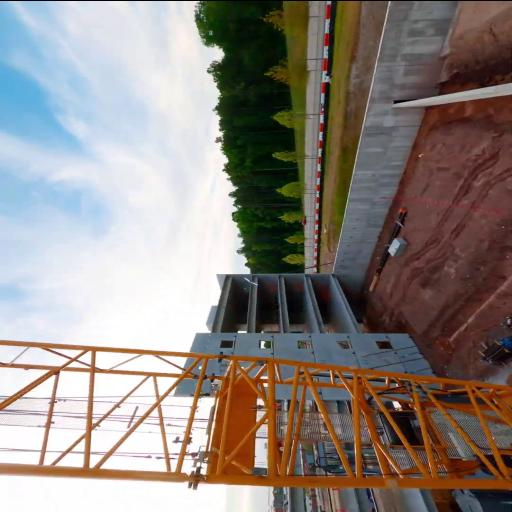uav: (244, 276, 260, 285)
